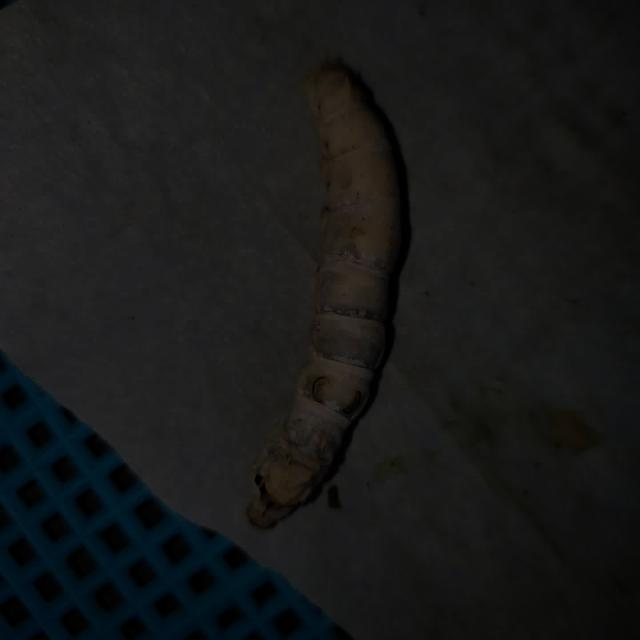Grasserie: (233, 30, 450, 549)
